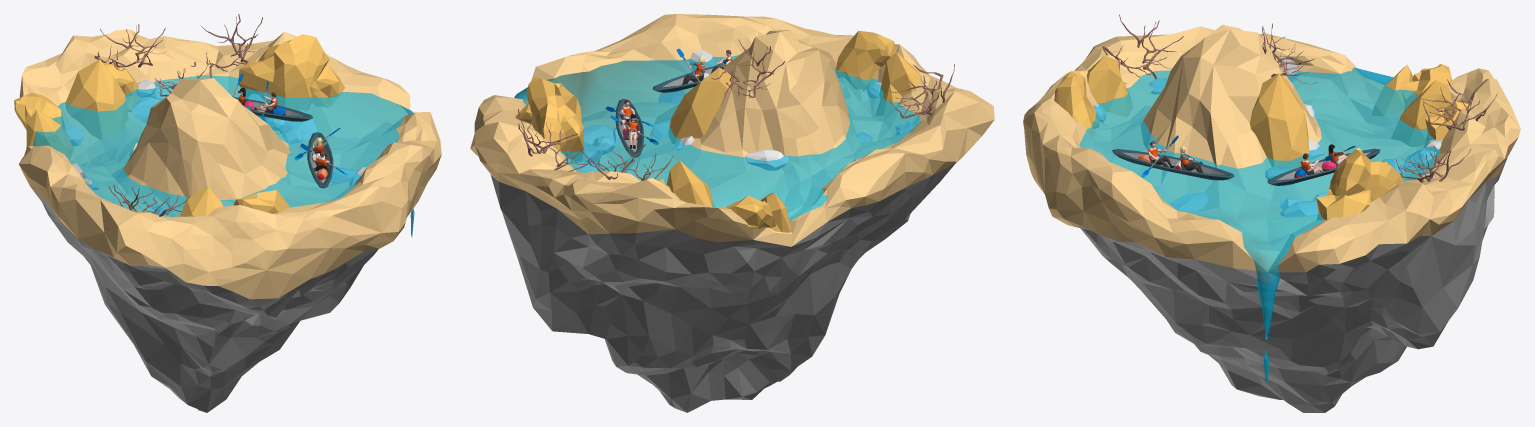
Rendered from land_55.fbx.
3 renders of one model, left to right at view 1: azimuth 30°, elevation 25°; view 2: azimuth 150°, elevation 25°; view 3: azimuth 270°, elevation 25°, orthographic. The views are drawn at different scales.
Parts seen in each view (by area): view 1: polySurface3033, land_55.054, land_55.057, land_55.055, land_55.086, land_55.085, land_55.087, land_55.083, land_55.082, land_55.074, land_55.056, land_55.067 (+5 smaller); view 2: polySurface3033, land_55.054, land_55.057, land_55.059, land_55.083, land_55.082, land_55.055, land_55.085, land_55.067, land_55.084, land_55.073, land_55.076 (+4 smaller); view 3: polySurface3033, land_55.054, land_55.059, land_55.057, land_55.055, land_55.082, land_55.083, land_55.074, land_55.087, land_55.086, land_55.085, land_55.073 (+7 smaller).
Part boxes in pixels (x1=…): polySurface3033: x1=19, y1=29, x2=441, y2=412; land_55.054: x1=33, y1=75, x2=413, y2=216; land_55.057: x1=238, y1=34, x2=329, y2=111; land_55.055: x1=65, y1=59, x2=128, y2=139; land_55.086: x1=26, y1=110, x2=73, y2=159; land_55.085: x1=14, y1=92, x2=64, y2=130; land_55.087: x1=309, y1=65, x2=345, y2=107; land_55.083: x1=233, y1=190, x2=289, y2=213; land_55.082: x1=180, y1=186, x2=223, y2=216; land_55.074: x1=307, y1=132, x2=333, y2=188; land_55.056: x1=103, y1=62, x2=140, y2=111; land_55.067: x1=190, y1=14, x2=262, y2=77; polySurface3033: x1=470, y1=14, x2=994, y2=412; land_55.054: x1=514, y1=55, x2=920, y2=221; land_55.057: x1=526, y1=77, x2=583, y2=162; land_55.059: x1=668, y1=67, x2=731, y2=143; land_55.083: x1=835, y1=30, x2=895, y2=91; land_55.082: x1=876, y1=52, x2=921, y2=115; land_55.055: x1=666, y1=160, x2=714, y2=206; land_55.085: x1=726, y1=195, x2=775, y2=229; land_55.067: x1=518, y1=109, x2=597, y2=171; land_55.084: x1=889, y1=64, x2=954, y2=118; land_55.073: x1=615, y1=99, x2=643, y2=157; land_55.076: x1=711, y1=39, x2=784, y2=105; polySurface3033: x1=1023, y1=24, x2=1520, y2=412; land_55.054: x1=1080, y1=67, x2=1439, y2=339; land_55.059: x1=1250, y1=73, x2=1309, y2=169; land_55.057: x1=1329, y1=148, x2=1403, y2=200; land_55.055: x1=1391, y1=80, x2=1452, y2=146; land_55.082: x1=1086, y1=55, x2=1132, y2=117; land_55.083: x1=1054, y1=70, x2=1099, y2=135; land_55.074: x1=1112, y1=149, x2=1234, y2=180; land_55.087: x1=1316, y1=189, x2=1370, y2=220; land_55.086: x1=1372, y1=65, x2=1413, y2=115; land_55.085: x1=1401, y1=63, x2=1451, y2=110; land_55.073: x1=1267, y1=148, x2=1380, y2=185.
Size of the model in its own units: 18.99 by 15.96 by 19.95.
